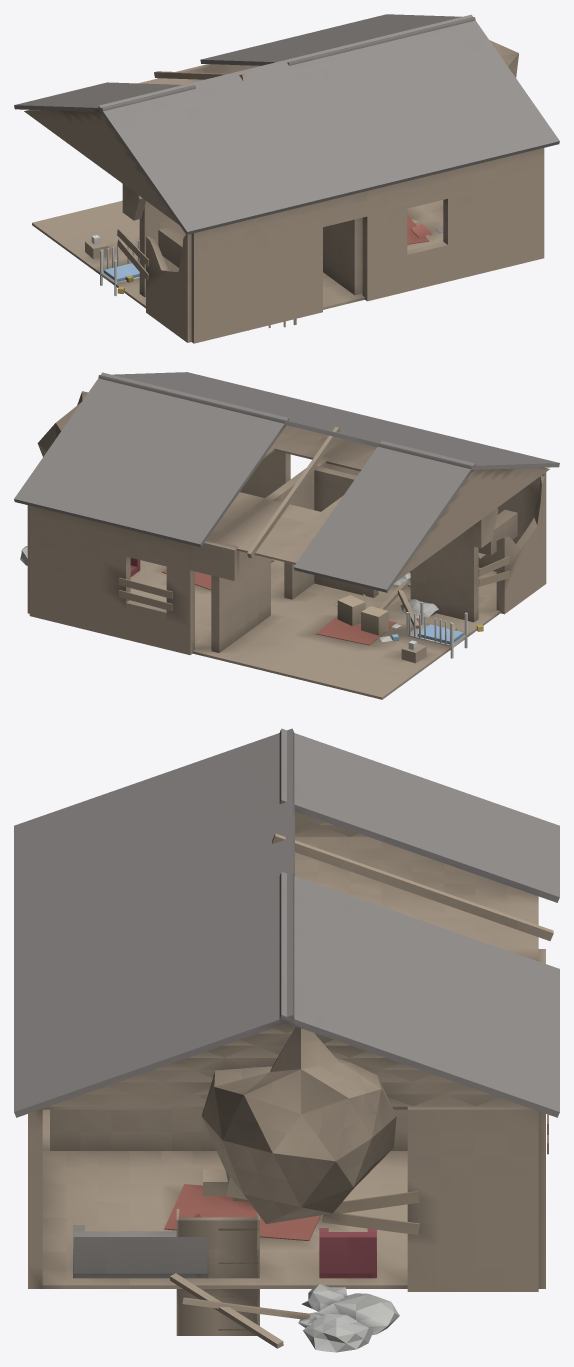
File: casa_r7.glb
3 views of the same model, one above another, from view 1: azimuth 30°, elevation 25°; view 2: azimuth 150°, elevation 25°; view 3: azimuth 270°, elevation 25° (orthographic). The views are drawn at different scales.
Visible parts, largest first — view 1: telhado, ext0_0, chao, telhado_oitao0, ext0_3, int_0, int_1, berco_fundo0, armario_frente, forro, ext0_3_tabua_50, telhado_vigas (+1 smaller); view 2: telhado, ext0_2, chao, forro, int_0, int_1, telhado_oitao0, ext0_3, ext0_0, berco_fundo0, telhado_vigas, entulho (+8 smaller); view 3: telhado, ext0_1, chao, forro, telhado_oitao2, int_0, estante_sala1, entulho_fora, movel_sala0, telhado_vigas, sala_tapete, movel_sala2 (+4 smaller).
Boxes of the visible parts, x1,y1,x2,y2 form: telhado: (14,14,559,234); ext0_0: (191,148,544,343); chao: (32,200,443,309); telhado_oitao0: (24,110,178,224); ext0_3: (122,184,191,342); int_0: (204,69,362,295); int_1: (139,201,185,297); berco_fundo0: (100,240,139,296); armario_frente: (158,226,184,267); forro: (139,64,259,84); ext0_3_tabua_50: (117,228,149,280); telhado_vigas: (154,71,246,80); telhado: (14,372,559,592); ext0_2: (29,506,239,654); chao: (130,559,500,699); forro: (206,425,376,564); int_0: (211,439,359,652); int_1: (314,466,478,622); telhado_oitao0: (394,467,549,582); ext0_3: (473,472,546,614); ext0_0: (240,450,540,571); berco_fundo0: (406,601,467,658); telhado_vigas: (247,426,339,558); entulho: (363,571,438,628); telhado: (14,728,559,1117); ext0_1: (201,1026,538,1291); chao: (37,1109,407,1288); forro: (42,837,538,1109); telhado_oitao2: (49,1023,524,1106); int_0: (50,1109,407,1150); estante_sala1: (176,1209,259,1335); entulho_fora: (170,1273,399,1352); movel_sala0: (73,1225,208,1278); telhado_vigas: (272,833,553,940); sala_tapete: (164,1184,320,1240); movel_sala2: (319,1228,376,1278).
Size of what is drawn, in the model's own units: 11.88 by 5.56 by 8.14.
